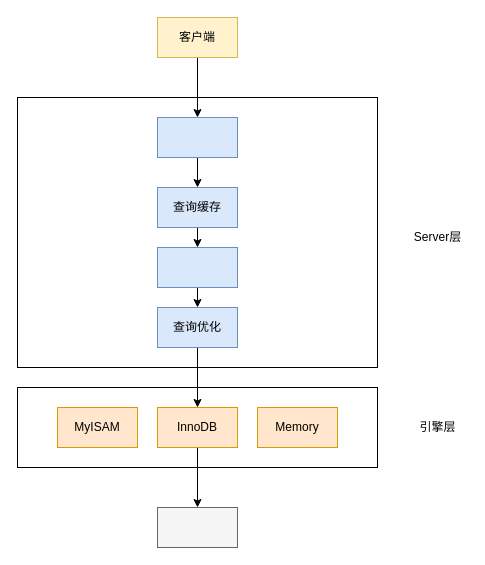
Some shapes in this 485 by 565 pixel diagram are drawn without their labels. Each missing label, with the centre of its shape:
处理连接: point 197,137
文件系统: point 197,527
语法解析: point 197,267
